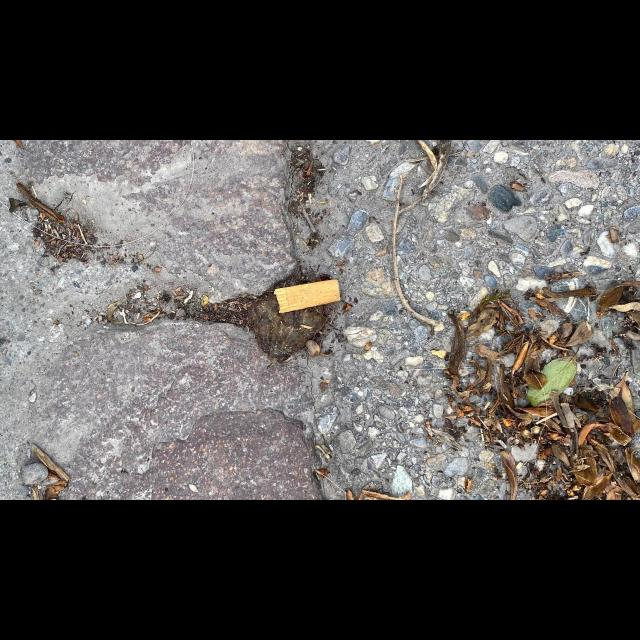cigarette: (274, 278, 342, 314)
